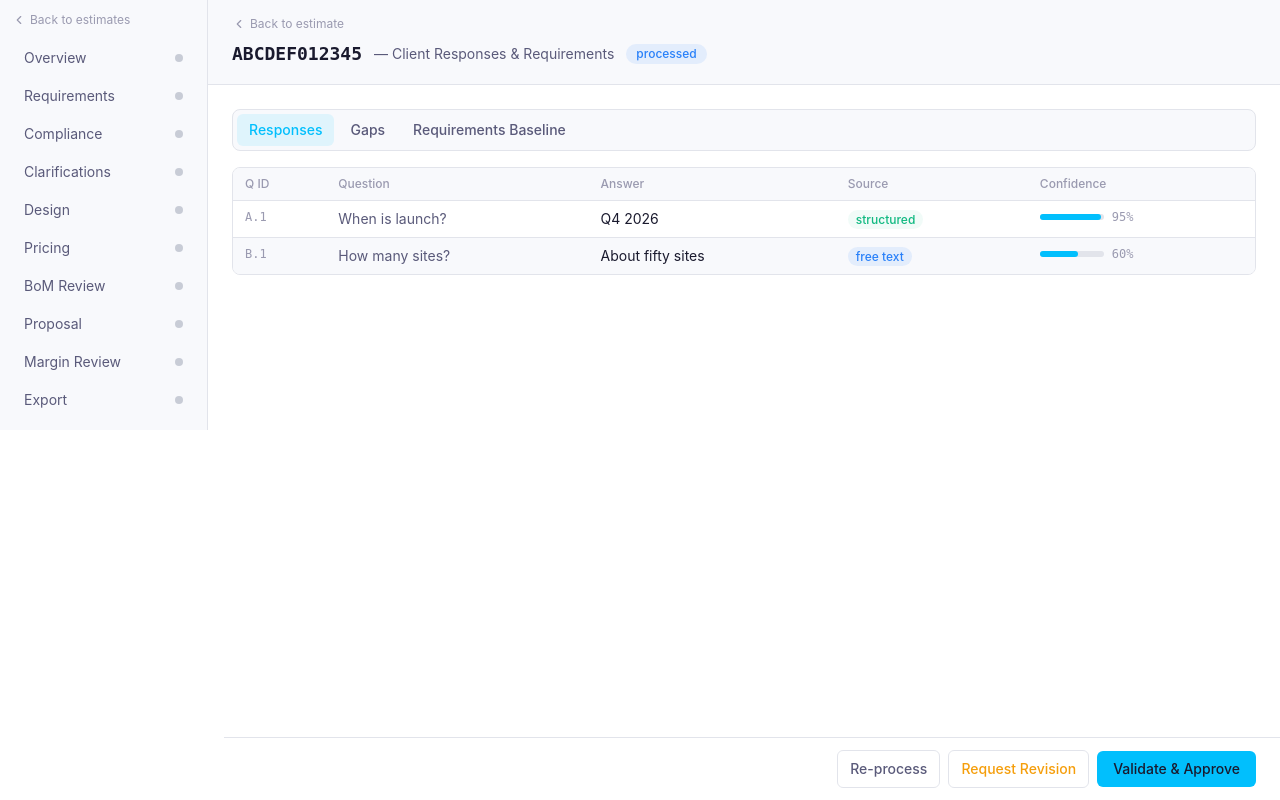
Scenario: ResponsesPage › switches to baseline tab and groups by category
Expected: the text "Q4 2026" is shown, [588,200,836,238]
Click the button "Requirements Baseline": (489, 130) [401,114,578,146]
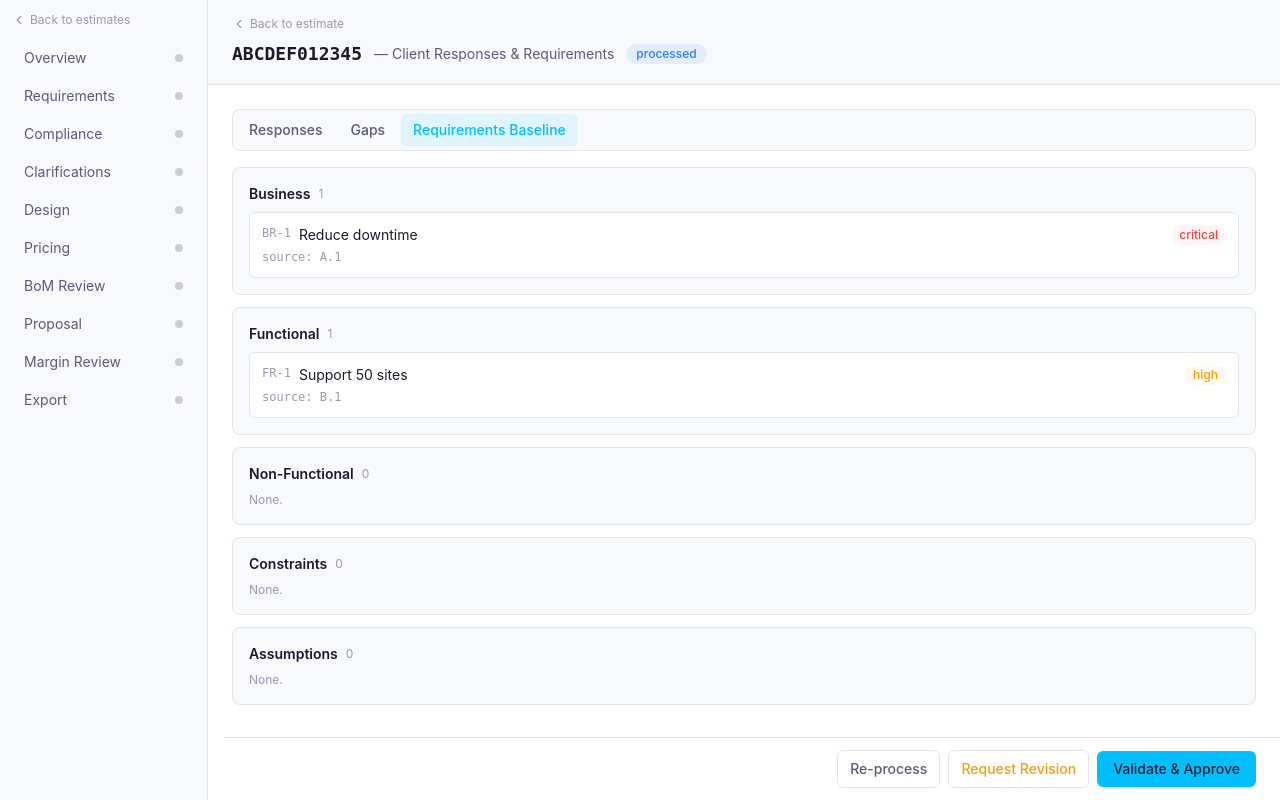
Expected: the heading "Business" is shown, [249,184,310,204]
Expected: the heading "Functional" is shown, [249,324,320,344]
Expected: the text "Reduce downtime" is shown, [299,226,418,243]
